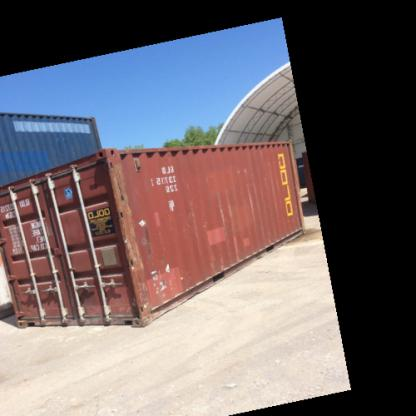Damage: (102, 158, 152, 311), (153, 261, 184, 310), (182, 191, 206, 254), (215, 188, 238, 231), (245, 184, 265, 216), (228, 232, 247, 257), (209, 254, 224, 274), (232, 162, 252, 177)
